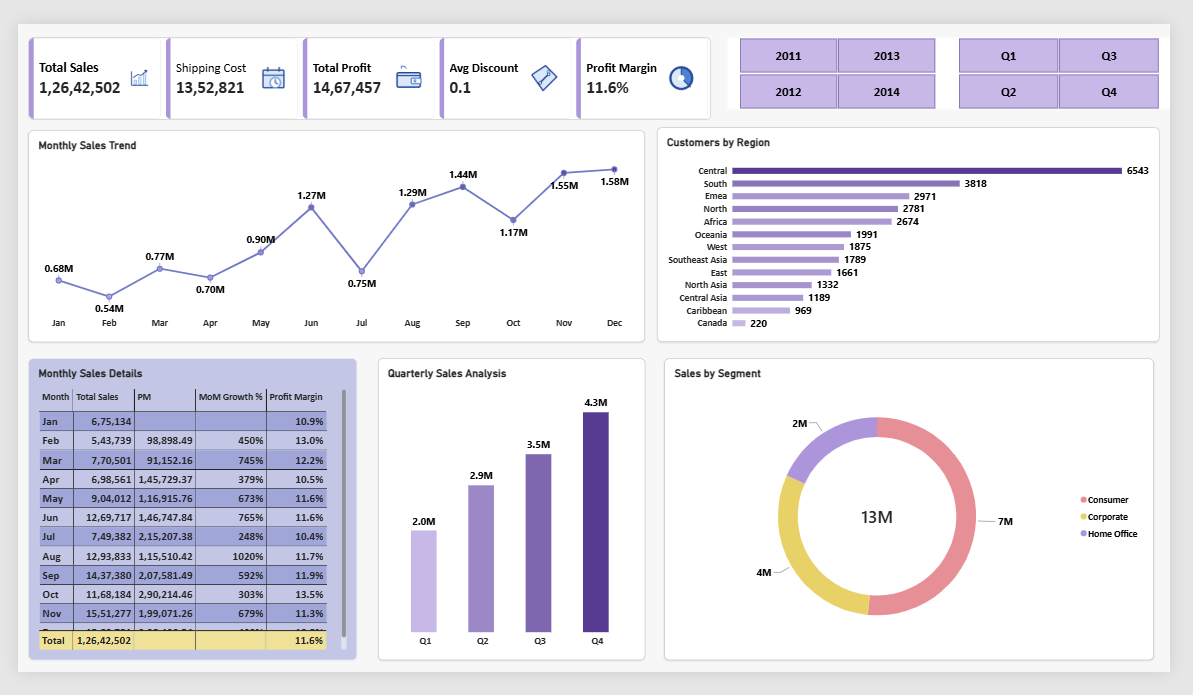

The dashboard page shown, as its layout file describes it:
{"tool":"powerbi","page":{"name":"Sales & Customer Analysis","canvas":[1920,1080],"ordinal":1},"visuals":[{"type":"cardVisual","fields":{"Data":["Dax Measures.Total Sales","Dax Measures.Total Shipping Cost","Dax Measures.Total Profit","Dax Measures.Avg Discount","Dax Measures.Profit Margin"]},"box":[17.5,22.5,1137.5,137.5],"z":0},{"type":"lineChart","title":"Monthly Sales Trend","fields":{"Category":["Date_Table.Month"],"Y":["Dax Measures.Total Sales"]},"box":[17.5,177.5,1027.5,352.5],"z":1000},{"type":"tableEx","title":"Monthly Sales Details","fields":{"Values":["Date_Table.Month","Dax Measures.Total Sales","Date_Table.PM","Date_Table.MoM Growth %","Dax Measures.Profit Margin"]},"box":[17.5,557.5,547.5,502.5],"z":3000},{"type":"columnChart","title":"Quarterly Sales Analysis","fields":{"Category":["Date_Table.Quarter"],"Y":["Dax Measures.Total Sales"]},"box":[600,557.5,445,502.5],"z":4001},{"type":"barChart","title":"Customers by Region","fields":{"Category":["Global_Superstore.Region"],"Y":["CountNonNull(Global_Superstore.Customer ID)"]},"box":[1065,172.5,837.5,357.5],"z":4003},{"type":"donutChart","title":"\tSales by Segment","fields":{"Category":["Global_Superstore.Segment"],"Y":["Dax Measures.Total Sales"]},"box":[1077.5,557.5,815,502.5],"z":4004},{"type":"slicer","fields":{"Values":["Date_Table.Year"]},"box":[1182.5,22.5,365,120],"z":4005},{"type":"slicer","fields":{"Values":["Date_Table.Quarter"]},"box":[1547.5,22.5,372.5,120],"z":4006}]}

Visuals, with their boxes on the page's 1920x1080 design canvas (x1, y1, x2, y2). These are canvas units, not pixel positions in the 1193x695 screenshot, which may show the page scaled, cropped or inside an application window:
cardVisual - Dax Measures.Total Sales x Dax Measures.Total Shipping Cost: BBox(18, 22, 1155, 160)
"Monthly Sales Trend" lineChart: BBox(18, 178, 1045, 530)
"Monthly Sales Details" tableEx: BBox(18, 558, 565, 1060)
"Quarterly Sales Analysis" columnChart: BBox(600, 558, 1045, 1060)
"Customers by Region" barChart: BBox(1065, 172, 1902, 530)
"	Sales by Segment" donutChart: BBox(1078, 558, 1892, 1060)
slicer - Date_Table.Year: BBox(1182, 22, 1548, 142)
slicer - Date_Table.Quarter: BBox(1548, 22, 1920, 142)
